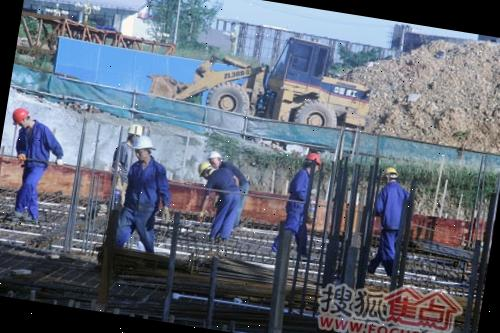helmet: (128, 133, 158, 153), (303, 150, 325, 168), (10, 105, 30, 123), (126, 122, 145, 138), (195, 160, 212, 177), (208, 149, 222, 161), (382, 165, 398, 175)
wear: (121, 158, 164, 213), (10, 124, 53, 170), (372, 181, 410, 230), (282, 168, 312, 210)
